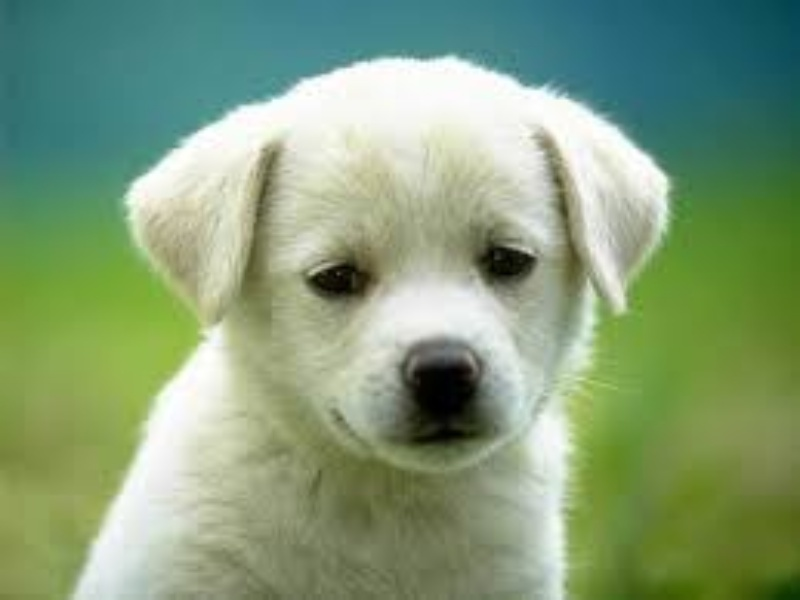dog: (107, 49, 690, 600)
